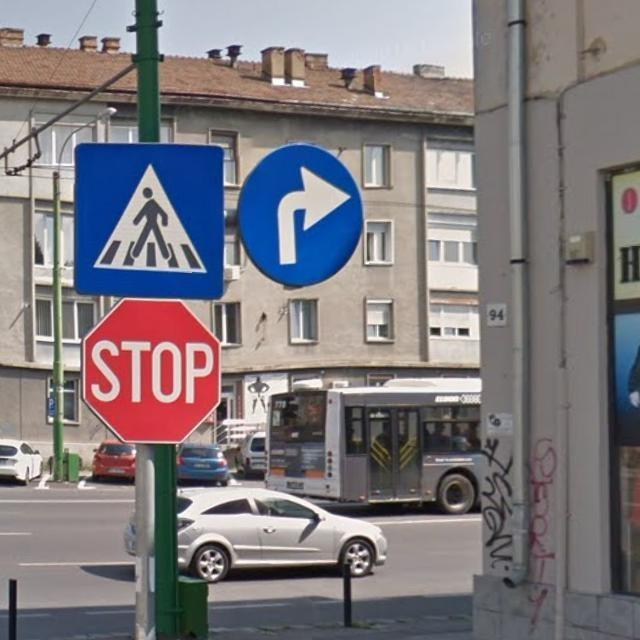info_crosswalk: (70, 143, 227, 301)
prio_stop: (80, 298, 220, 443)
